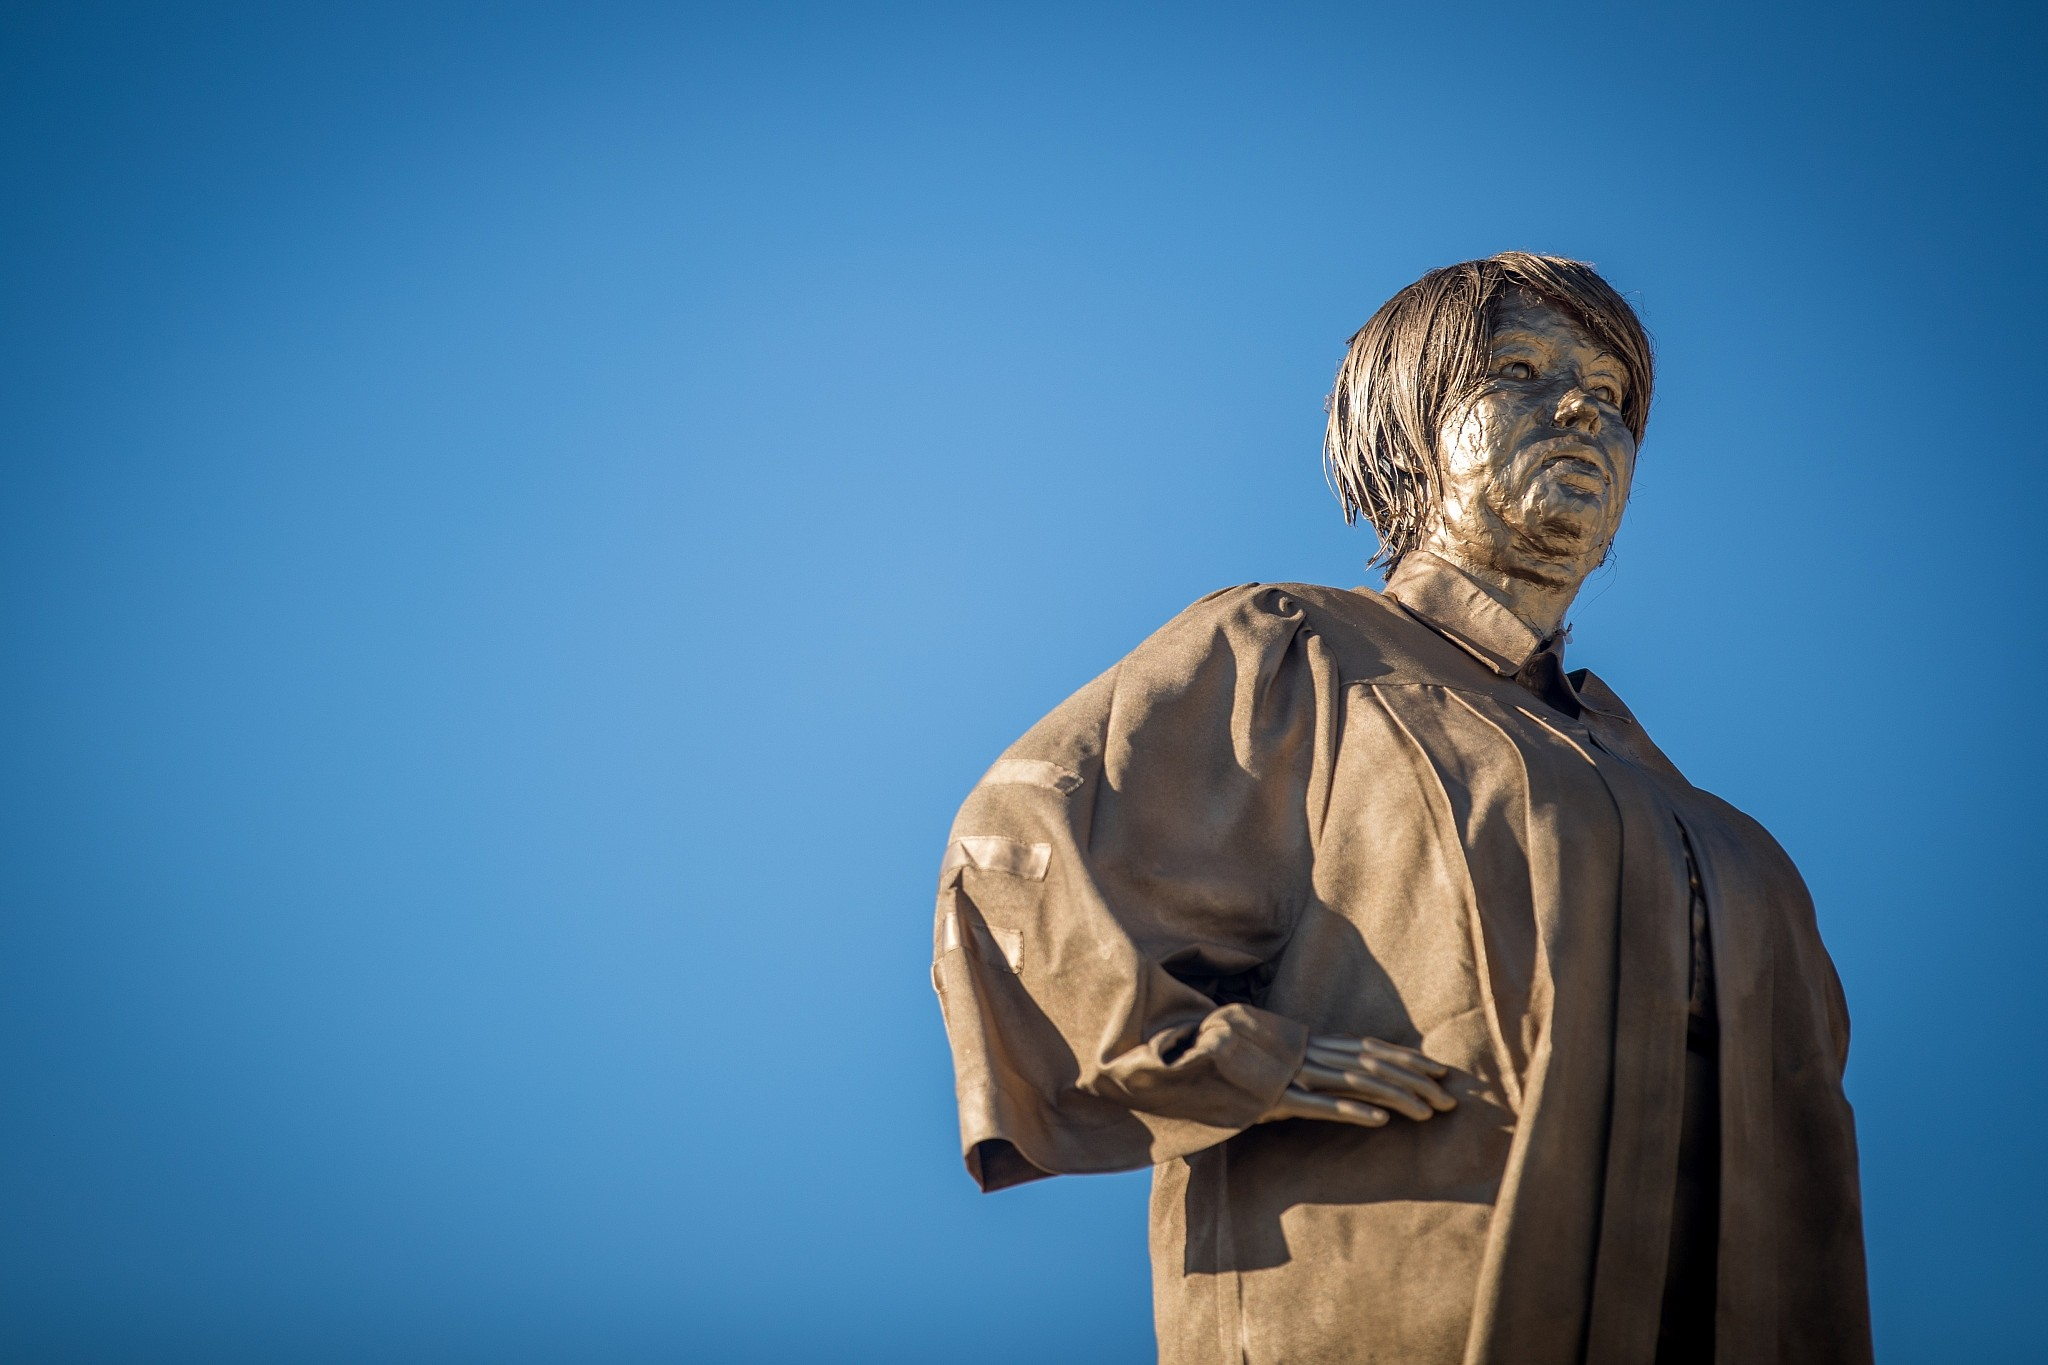person-like: (915, 241, 1893, 1365)
